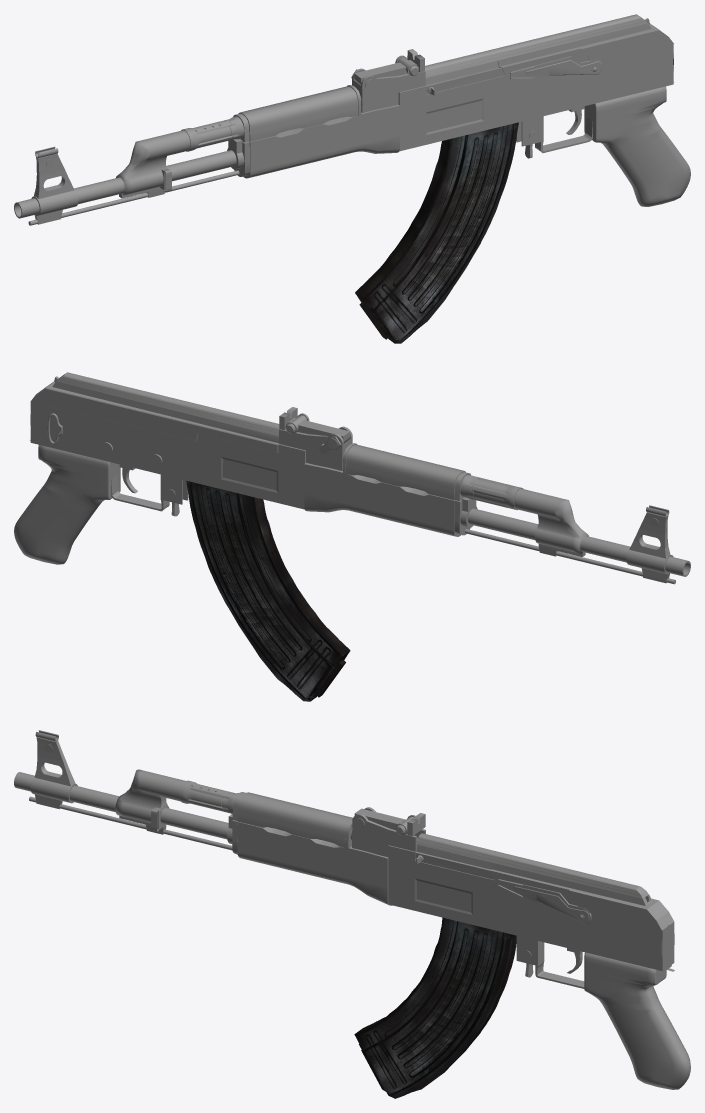
3 views of the same model, one above another, from view 1: azimuth 30°, elevation 25°; view 2: azimuth 150°, elevation 25°; view 3: azimuth 330°, elevation 25° (orthographic).
Parts seen in each view (by area): view 1: AK_47_2, Round_2, Tupper; view 2: AK_47_2, Round_2; view 3: AK_47_2, Round_2, Tupper.
Part boxes in pixels (left/top/right/bottom): AK_47_2: left=14, top=14, right=690, bottom=225; Round_2: left=355, top=122, right=518, bottom=343; Tupper: left=425, top=60, right=505, bottom=95; AK_47_2: left=14, top=372, right=690, bottom=584; Round_2: left=186, top=481, right=350, bottom=701; AK_47_2: left=14, top=730, right=690, bottom=1089; Round_2: left=354, top=917, right=516, bottom=1098; Tupper: left=415, top=844, right=493, bottom=879.
Bounding box in the file's own units: 98.16 × 39.47 × 4.41.
Materials: 2 (1 with a texture image).
